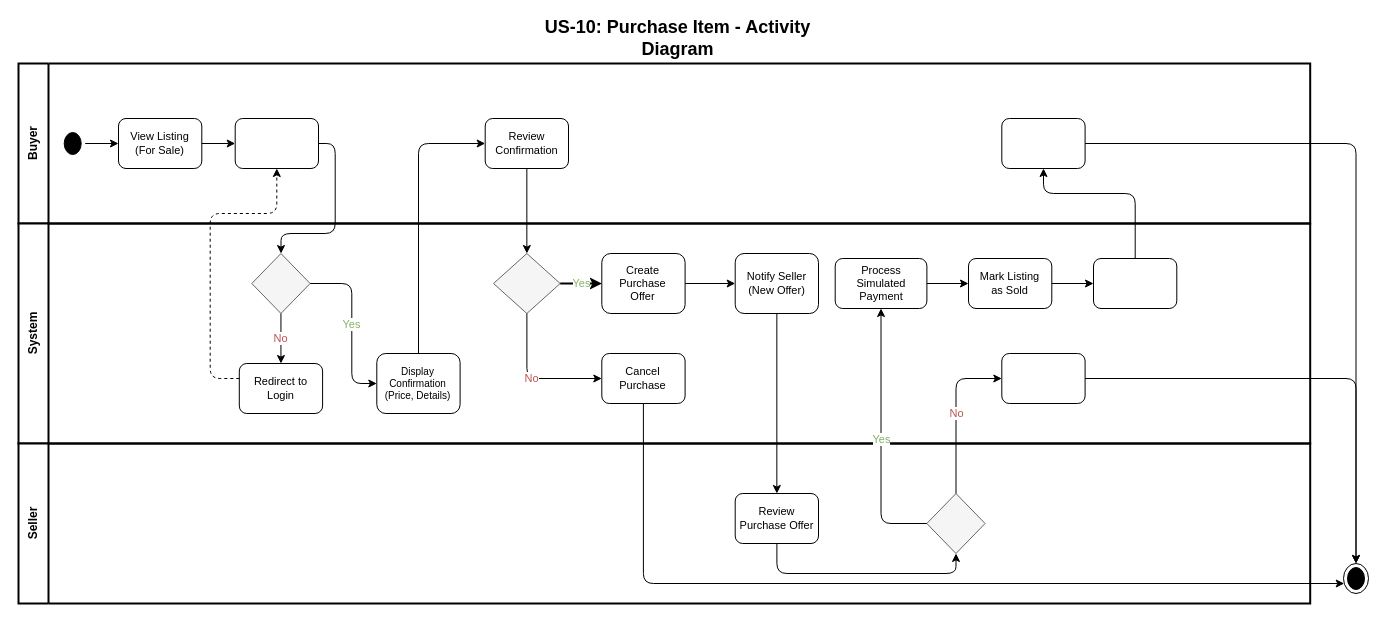
This 1386x622 diagram has some shape labels left out. The shapes that lost their labels are listed below. From the top down, each one's centre as x and y in pixels, then its label:
the point at 276,143: Click Buy
the point at 1043,143: View Purchase Status
the point at 280,283: Logged In?
the point at 526,283: Buyer Confirms?
the point at 1134,283: Record in History
the point at 1043,378: Notify Buyer (Rejected)
the point at 955,523: Accept?
